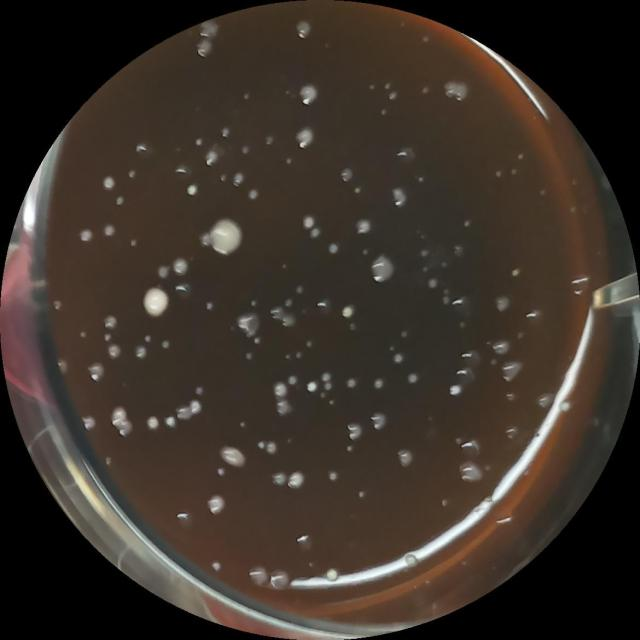Staphylococcus: (445, 380, 462, 400), (324, 565, 340, 585), (341, 304, 354, 320), (306, 379, 318, 395)
